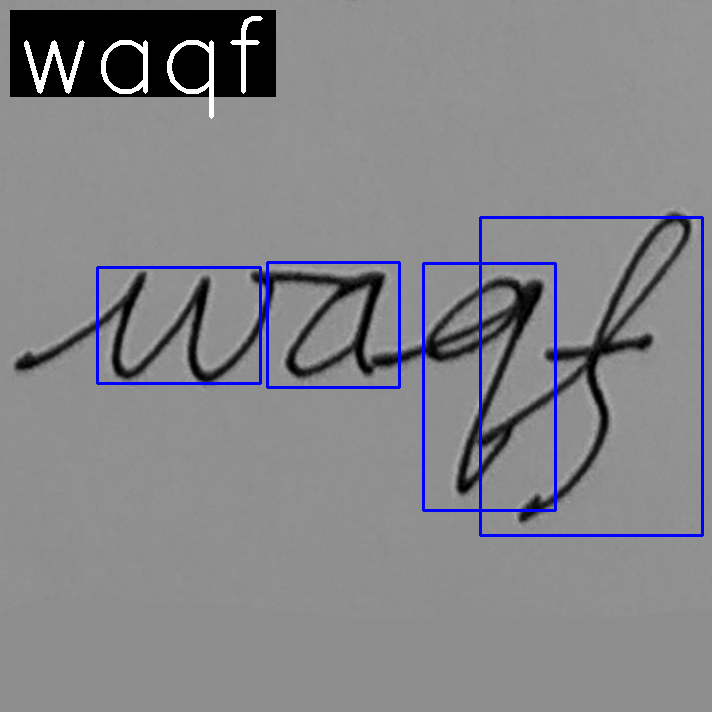a: (282, 267, 389, 385)
f: (509, 208, 695, 525)
q: (421, 271, 546, 497)
w: (108, 265, 277, 385)
